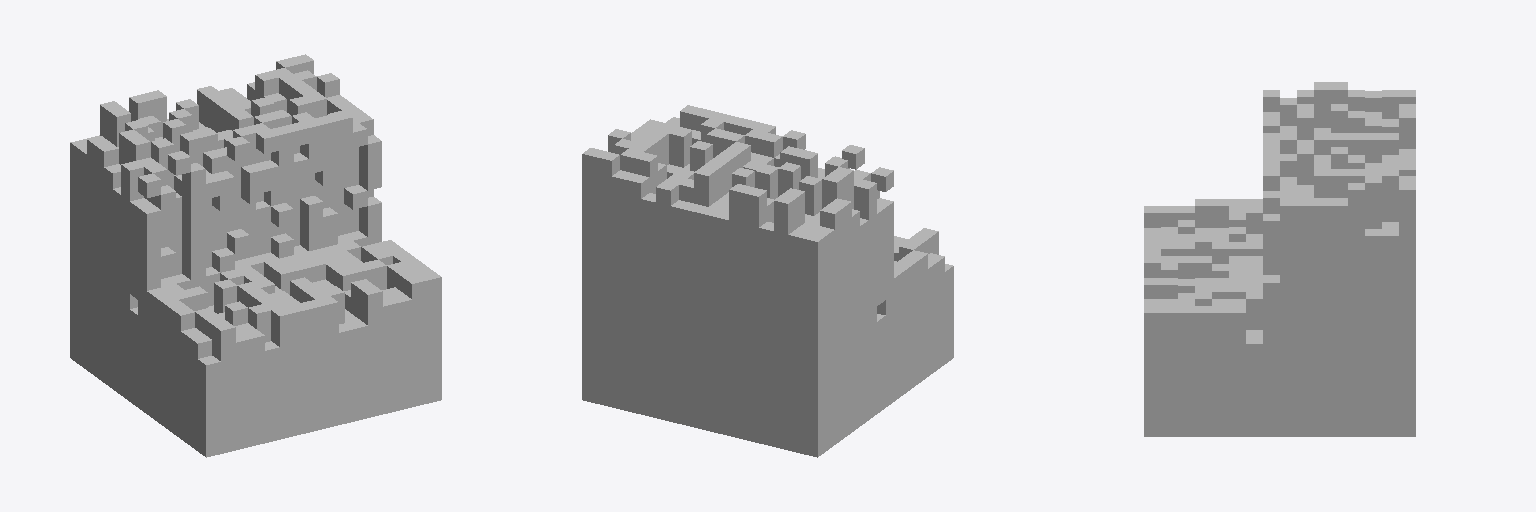
Rendered from Tiles Side V2.obj.
3 renders of one model, left to right at view 1: azimuth 30°, elevation 25°; view 2: azimuth 150°, elevation 25°; view 3: azimuth 270°, elevation 25°, orthographic.
Visible parts, largest first — view 1: object 1; view 2: object 1; view 3: object 1.
Part boxes in pixels (left/top/right/bottom): object 1: left=70, top=54, right=441, bottom=457; object 1: left=582, top=105, right=953, bottom=457; object 1: left=1144, top=82, right=1415, bottom=436.
Size of the model in its own units: 1.6 by 1.6 by 1.6.